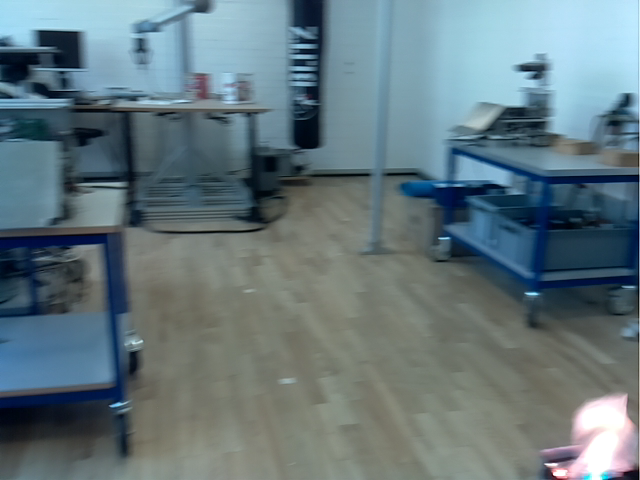fire: (558, 393, 638, 478)
